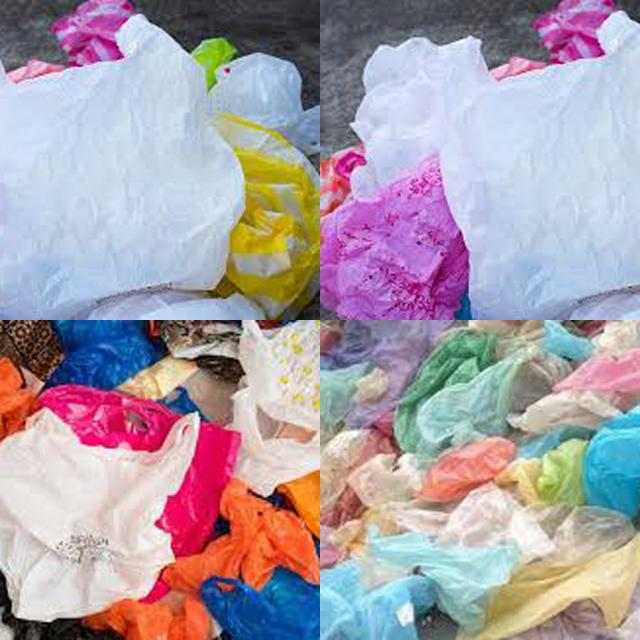Single-layer Plastic: (0, 15, 244, 319), (440, 12, 640, 318), (0, 409, 200, 621), (320, 156, 469, 319), (351, 36, 488, 196), (214, 112, 319, 318), (374, 482, 520, 627), (456, 534, 640, 640), (162, 479, 320, 594), (416, 349, 572, 459), (439, 484, 635, 564), (232, 320, 320, 495), (394, 328, 498, 452), (210, 52, 320, 155), (156, 422, 240, 556), (516, 349, 640, 434), (38, 384, 181, 452), (321, 561, 436, 640), (202, 569, 320, 640), (46, 320, 162, 389), (415, 436, 516, 503), (84, 591, 215, 640), (584, 411, 640, 518), (498, 439, 588, 504), (51, 0, 135, 66), (532, 0, 616, 64), (554, 349, 640, 411), (348, 454, 422, 506)
